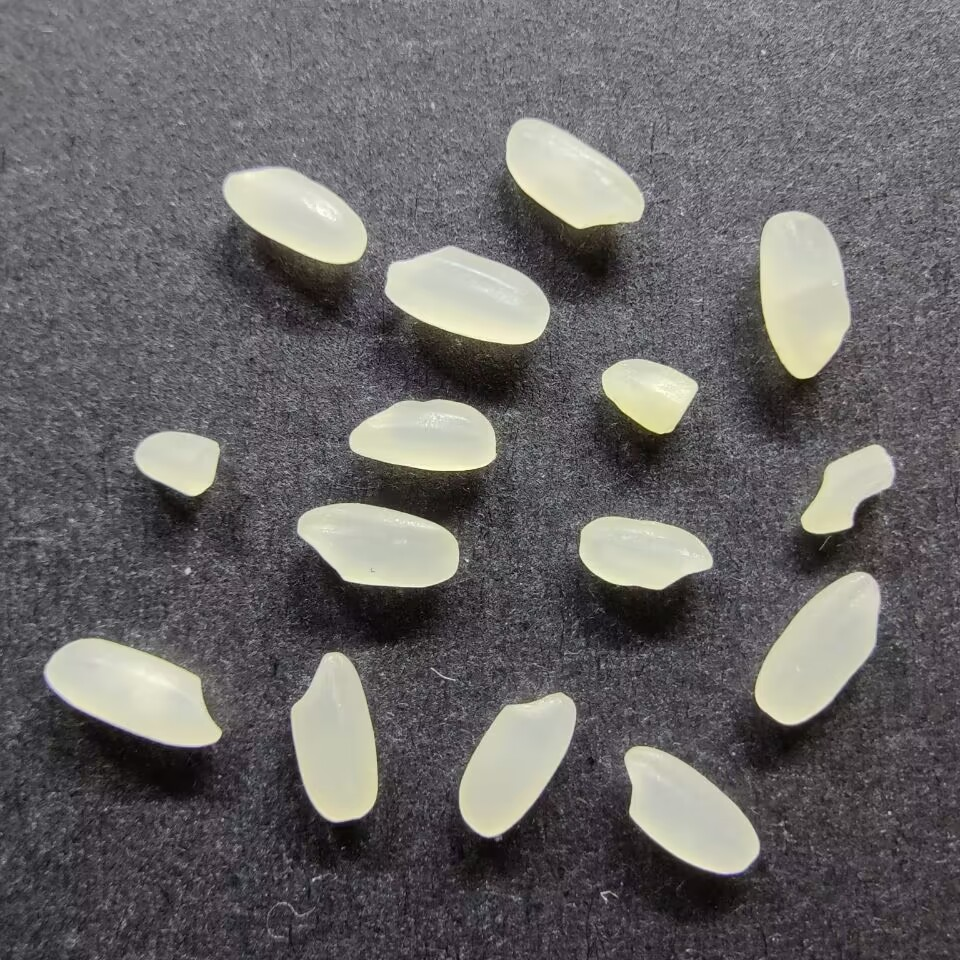broken: (797, 444, 897, 535), (600, 355, 699, 437), (132, 429, 222, 500)
rice: (753, 569, 884, 726), (43, 636, 223, 750), (619, 743, 765, 877), (456, 690, 579, 838), (384, 245, 553, 346), (505, 116, 645, 231), (757, 209, 851, 380), (288, 650, 379, 824), (219, 164, 370, 266), (293, 501, 460, 589), (346, 397, 498, 473), (577, 514, 715, 591)
